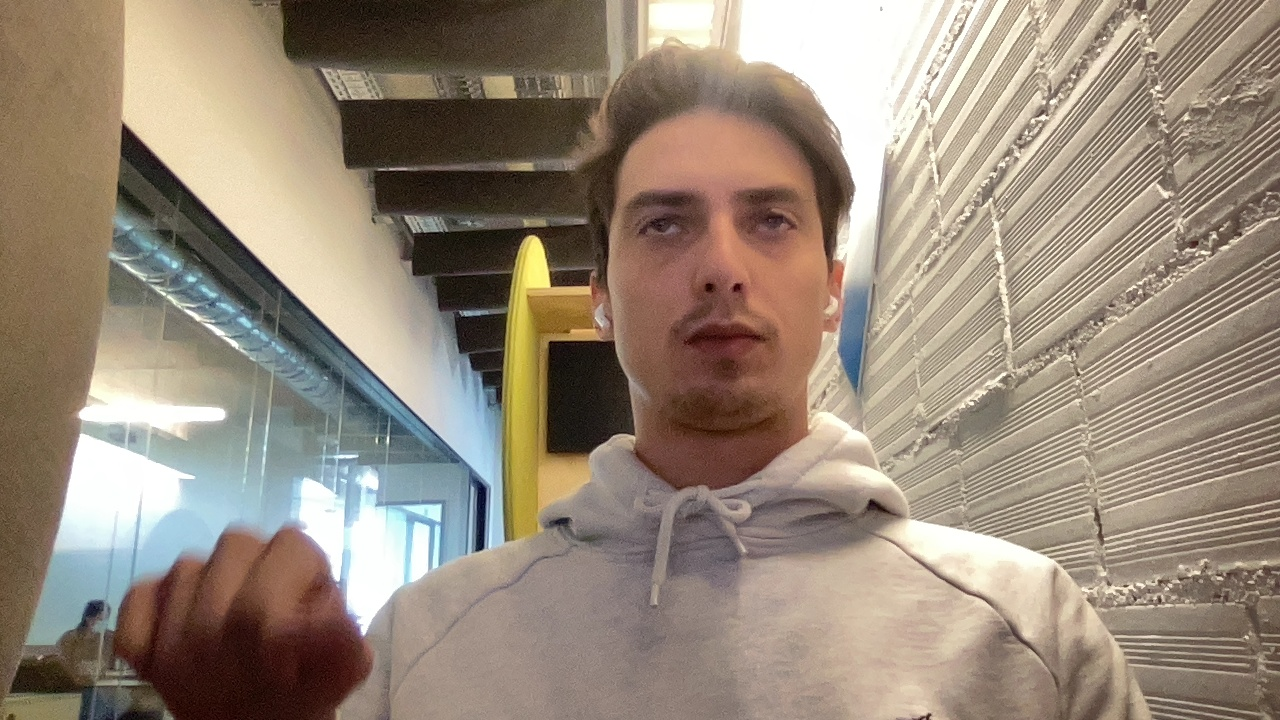yes: (75, 539, 390, 714)
